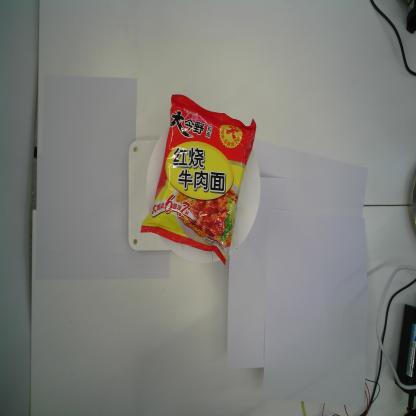Instant Noodles: (139, 93, 257, 267)
